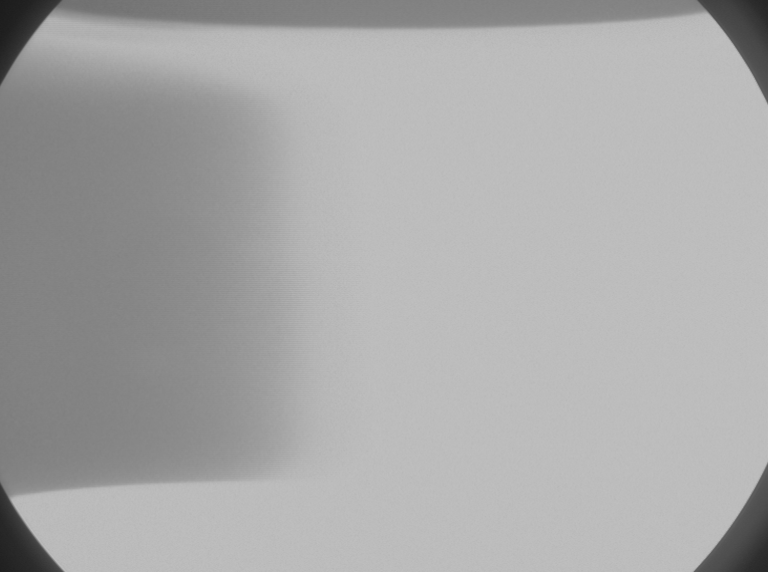defect: (127, 339, 172, 381)
